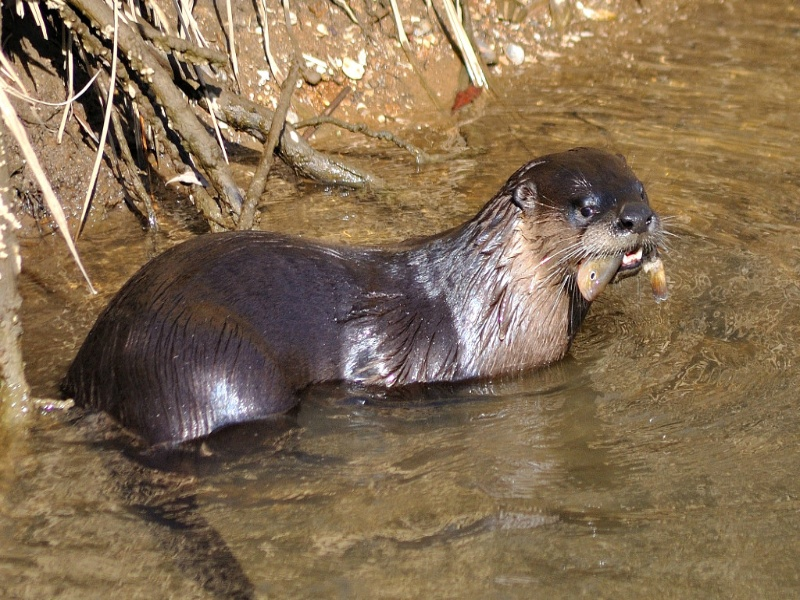minkish: (64, 141, 675, 486)
